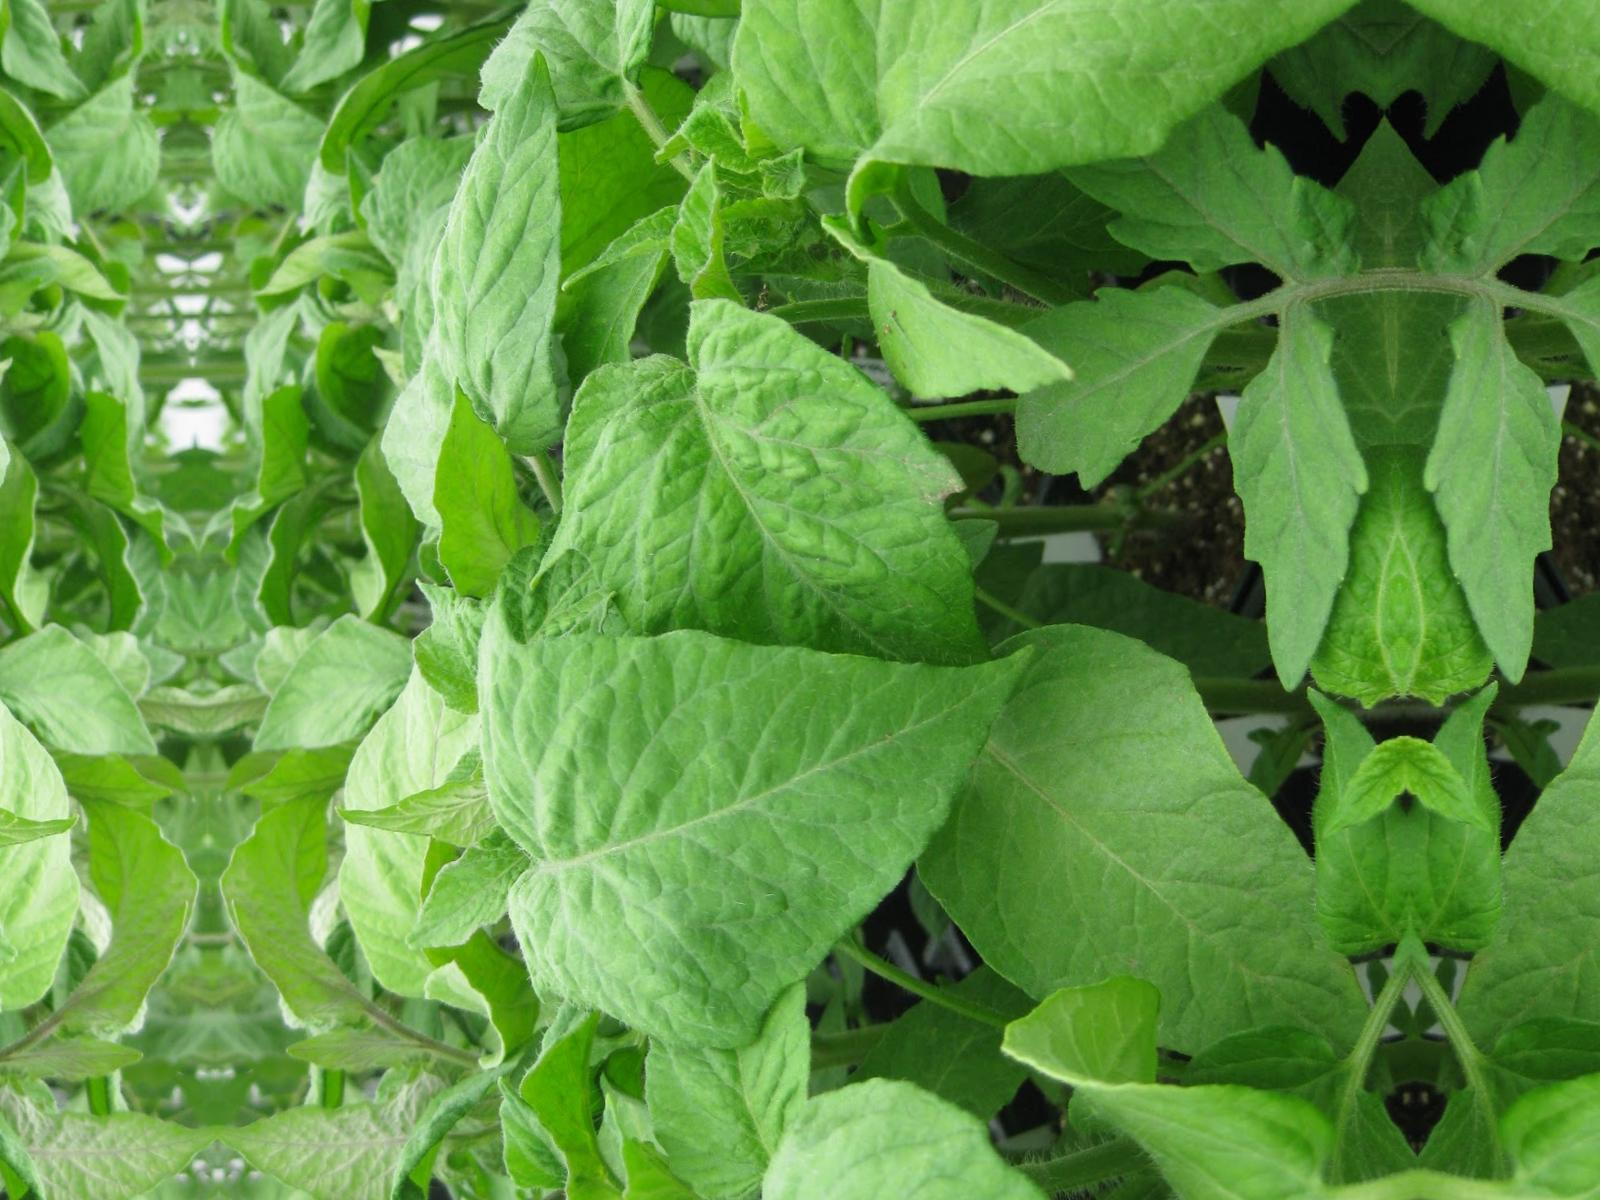Tomato leaf: (429, 613, 1049, 1075), (355, 59, 575, 512)
